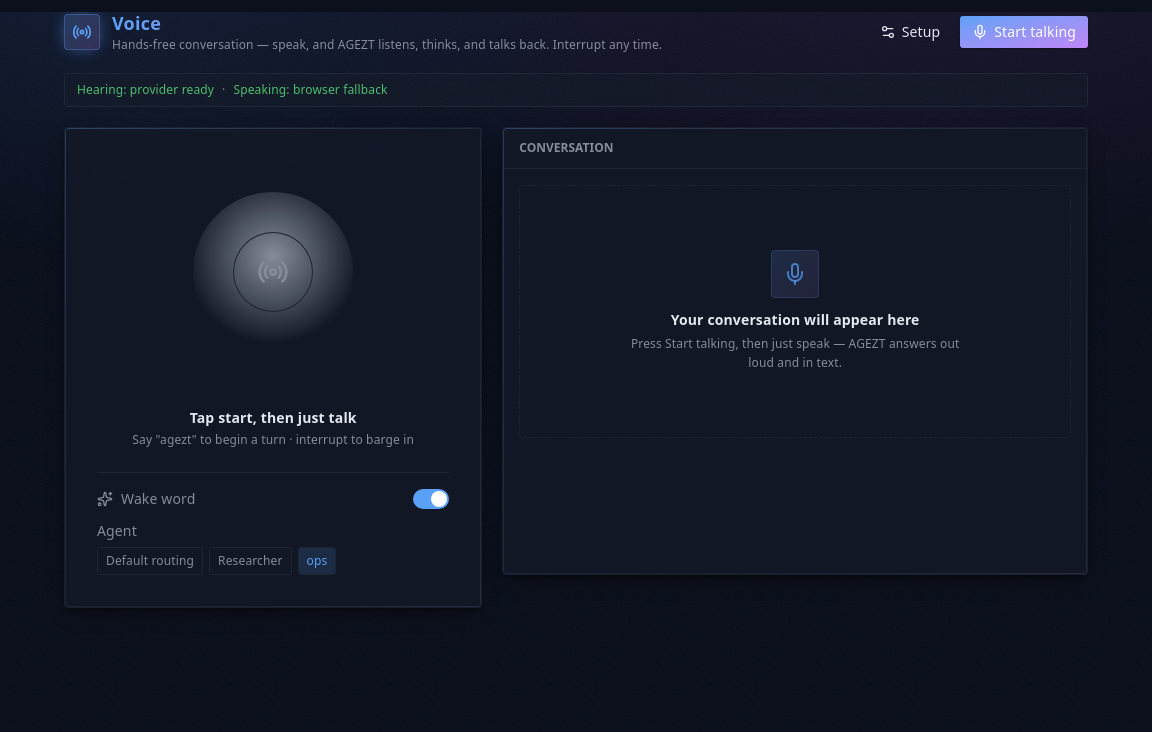
Scenario: Voice view › renders every live session phase, transcript role, streaming append, and fatal-error stop
Click the button "Start talking" at (1024, 32), box [960,16,1088,48]
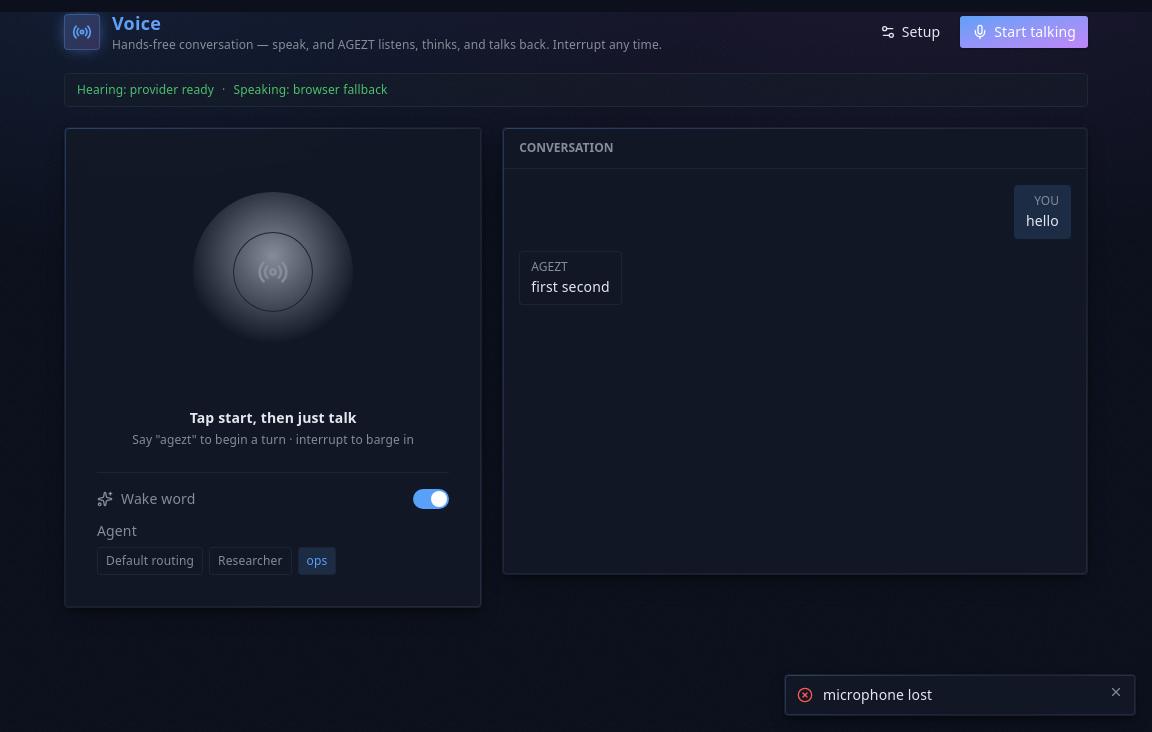
Check: the text "Idle" is shown, box [190,408,357,426]
Check: the text "hello" is shown, box [1026,210,1059,230]
Check: the text "first second" is shown, box [531,276,610,296]
